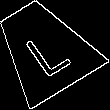L_NW: (15, 19, 72, 78)
